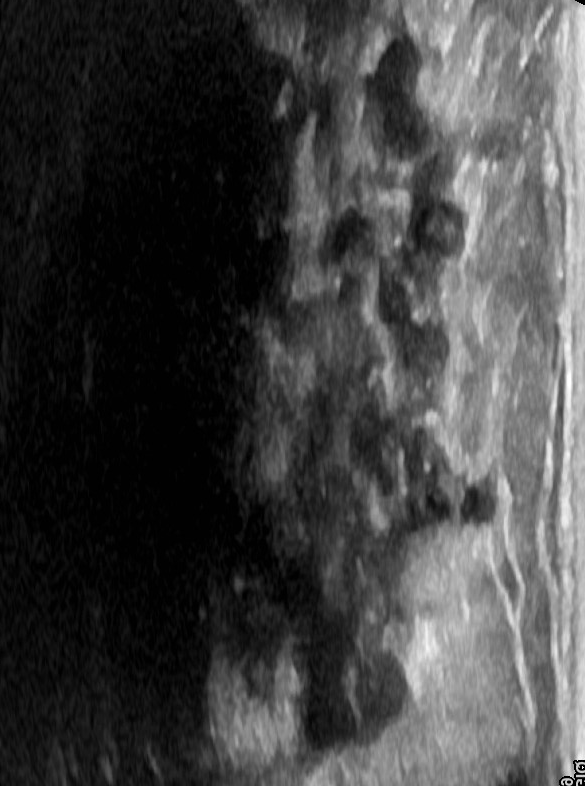Normal: (33, 2, 562, 781)
